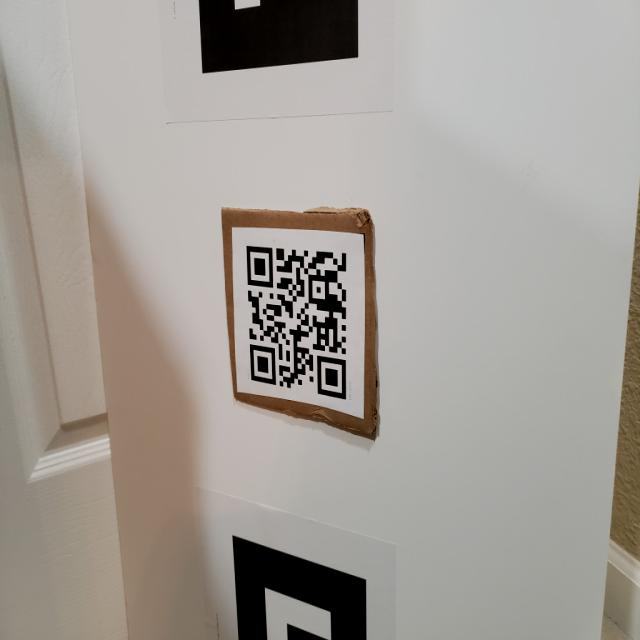QRCode: (240, 239, 356, 410)
